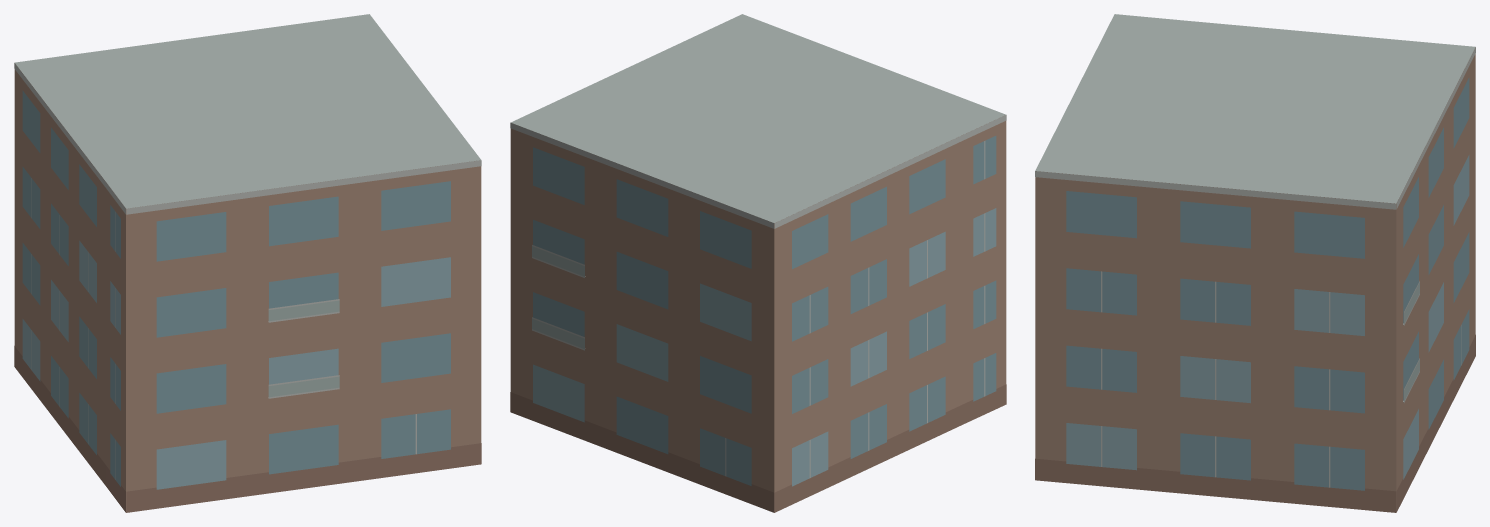
Rendered from residential-acb1079c-7c34-4fd1-a2d6-40232d9199dd.glb.
3 renders of one model, left to right at view 1: azimuth 30°, elevation 25°; view 2: azimuth 150°, elevation 25°; view 3: azimuth 270°, elevation 25°, orthographic. The views are drawn at different scales.
Visible parts, largest first — view 1: residential-acb1079c-7c34-4fd1-a2d6-40232d9199dd.tmp; view 2: residential-acb1079c-7c34-4fd1-a2d6-40232d9199dd.tmp; view 3: residential-acb1079c-7c34-4fd1-a2d6-40232d9199dd.tmp.
Part boxes in pixels (box(x1,y1,x2,y2)): residential-acb1079c-7c34-4fd1-a2d6-40232d9199dd.tmp: box(14, 14, 481, 512); residential-acb1079c-7c34-4fd1-a2d6-40232d9199dd.tmp: box(510, 14, 1006, 512); residential-acb1079c-7c34-4fd1-a2d6-40232d9199dd.tmp: box(1035, 14, 1475, 512).
Bounding box in the file's own units: 16.05 × 12.2 × 15.76.
